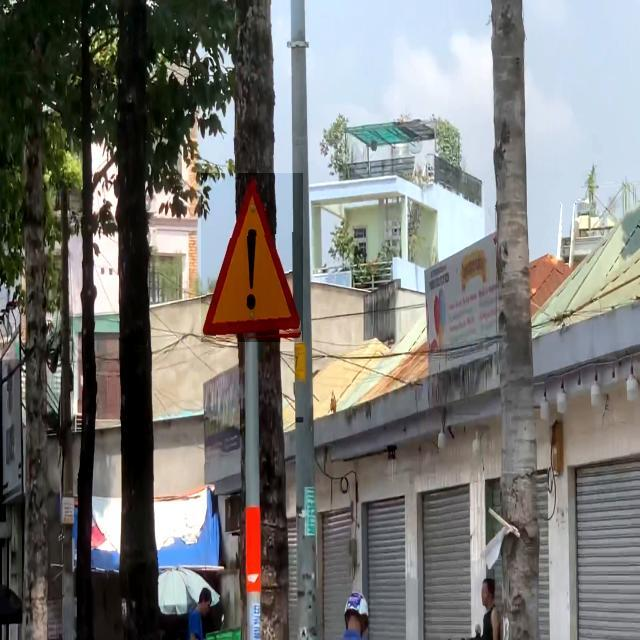W-233: (201, 173, 303, 342)
